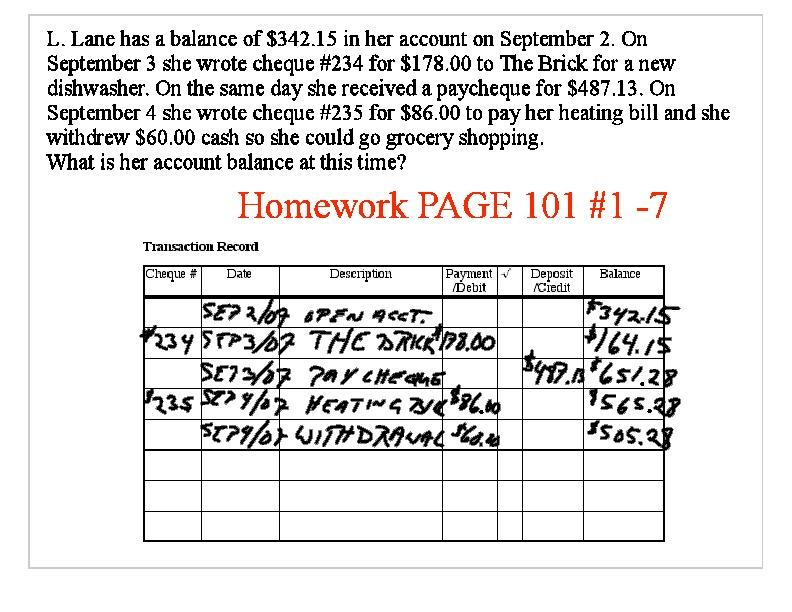paragraph: (38, 17, 755, 576)
